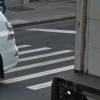Crosswalk: (18, 33, 75, 91)
